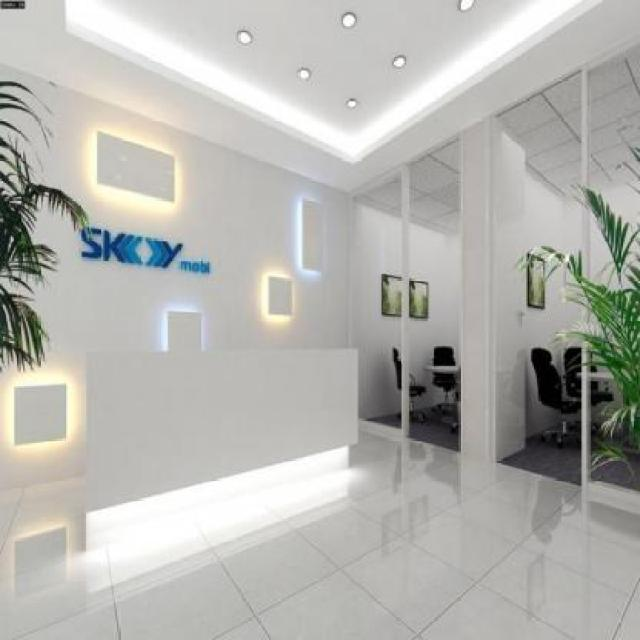frontdesk: (79, 331, 366, 550)
